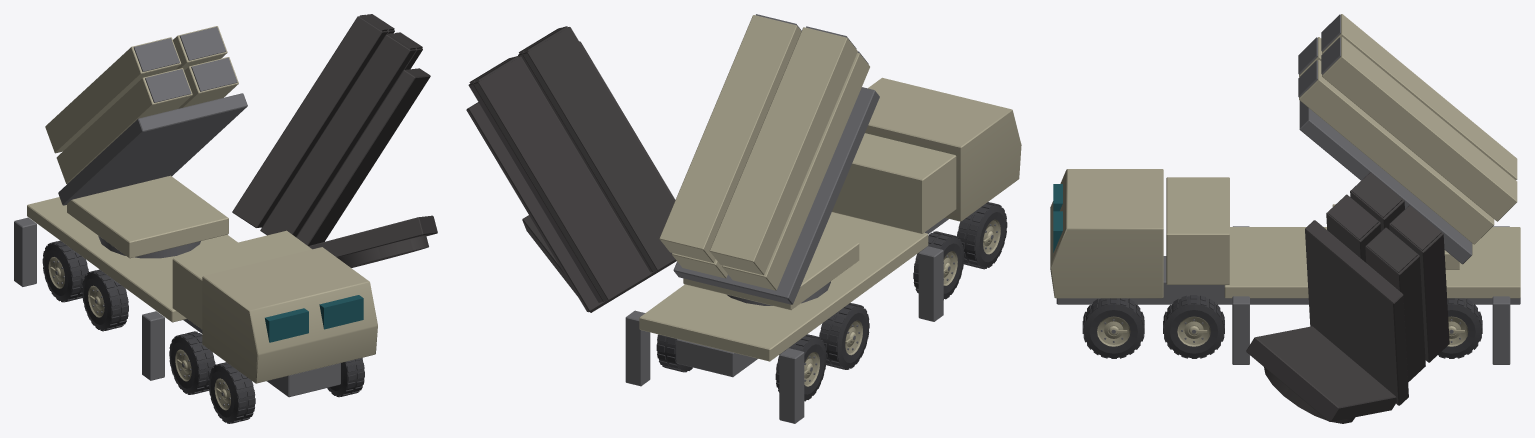
The model's file is samLauncher__bavar_373.glb.
3 views of the same model, side by side, from view 1: azimuth 30°, elevation 25°; view 2: azimuth 150°, elevation 25°; view 3: azimuth 270°, elevation 25° (orthographic). The views are drawn at different scales.
Visible parts, largest first — view 1: Hull_Mesh, Wreck, Gun_Mesh, Turret_Mesh, Wheel_L1_Mesh, Wheel_L3_Mesh, Wheel_L2_Mesh, Wheel_L0_Mesh, Wheel_R3_Mesh; view 2: Hull_Mesh, Gun_Mesh, Wreck, Turret_Mesh, Wheel_L3_Mesh, Wheel_L1_Mesh, Wheel_L2_Mesh, Wheel_L0_Mesh, Wheel_R0_Mesh; view 3: Hull_Mesh, Wreck, Gun_Mesh, Wheel_R2_Mesh, Wheel_R3_Mesh, Wheel_R0_Mesh.
Boxes of the visible parts, box(x1,y1,x2,y2) form: Hull_Mesh: box(14, 197, 377, 397); Wreck: box(56, 14, 437, 421); Gun_Mesh: box(45, 26, 247, 205); Turret_Mesh: box(67, 175, 228, 258); Wheel_L1_Mesh: box(82, 269, 128, 331); Wheel_L3_Mesh: box(208, 362, 255, 423); Wheel_L2_Mesh: box(169, 331, 215, 394); Wheel_L0_Mesh: box(42, 240, 88, 302); Wheel_R3_Mesh: box(327, 357, 364, 397); Hull_Mesh: box(625, 77, 1021, 423); Gun_Mesh: box(659, 14, 879, 304); Wreck: box(466, 26, 994, 397); Turret_Mesh: box(683, 234, 859, 309); Wheel_L3_Mesh: box(957, 202, 1007, 269); Wheel_L1_Mesh: box(819, 303, 869, 369); Wheel_L2_Mesh: box(913, 231, 964, 299); Wheel_L0_Mesh: box(775, 334, 826, 401); Wheel_R0_Mesh: box(656, 334, 692, 372); Hull_Mesh: box(1050, 169, 1520, 364); Wreck: box(1246, 172, 1449, 423); Gun_Mesh: box(1298, 14, 1517, 264); Wheel_R2_Mesh: box(1163, 295, 1224, 358); Wheel_R3_Mesh: box(1082, 298, 1144, 358); Wheel_R0_Mesh: box(1438, 298, 1482, 358).
Size of what is drawn, in the model's own units: 7.62 by 5.84 by 8.5.
